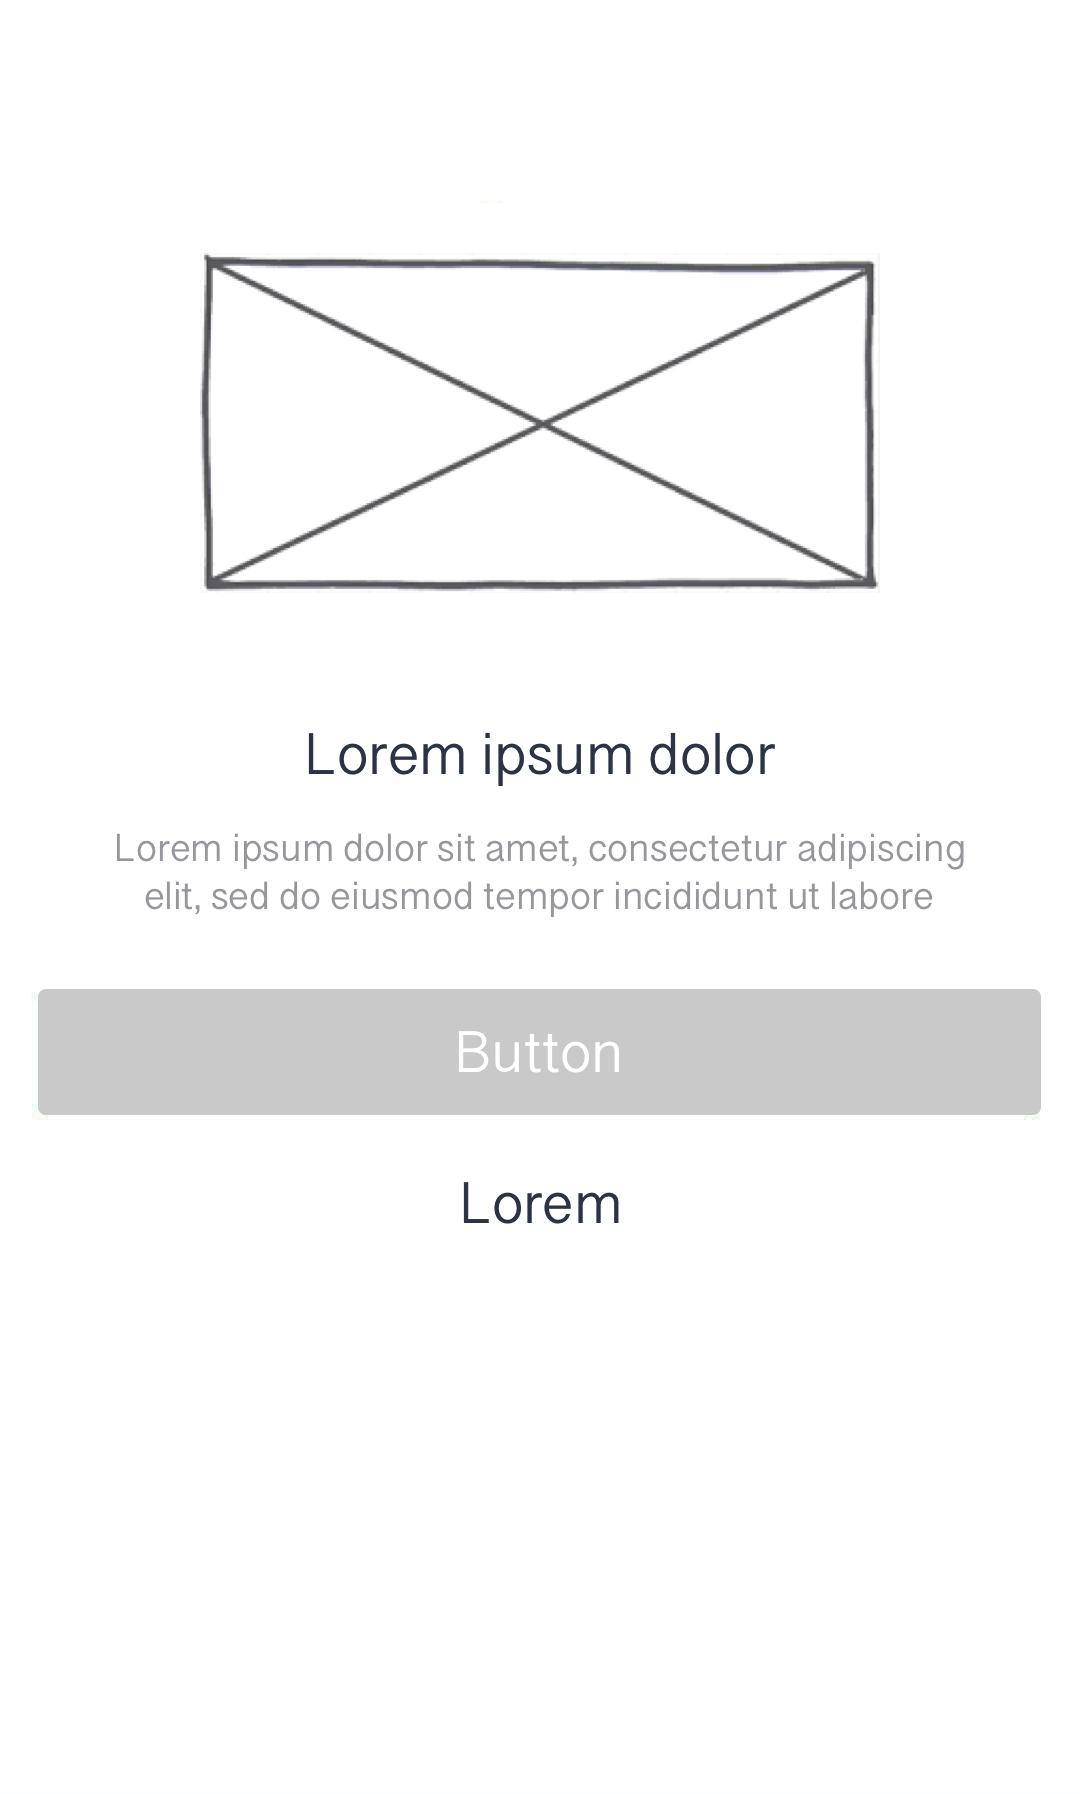Image: (199, 252, 879, 592)
Text: (117, 833, 965, 918), (309, 733, 776, 788), (462, 1181, 621, 1225)
TextButton: (38, 988, 1042, 1116)
